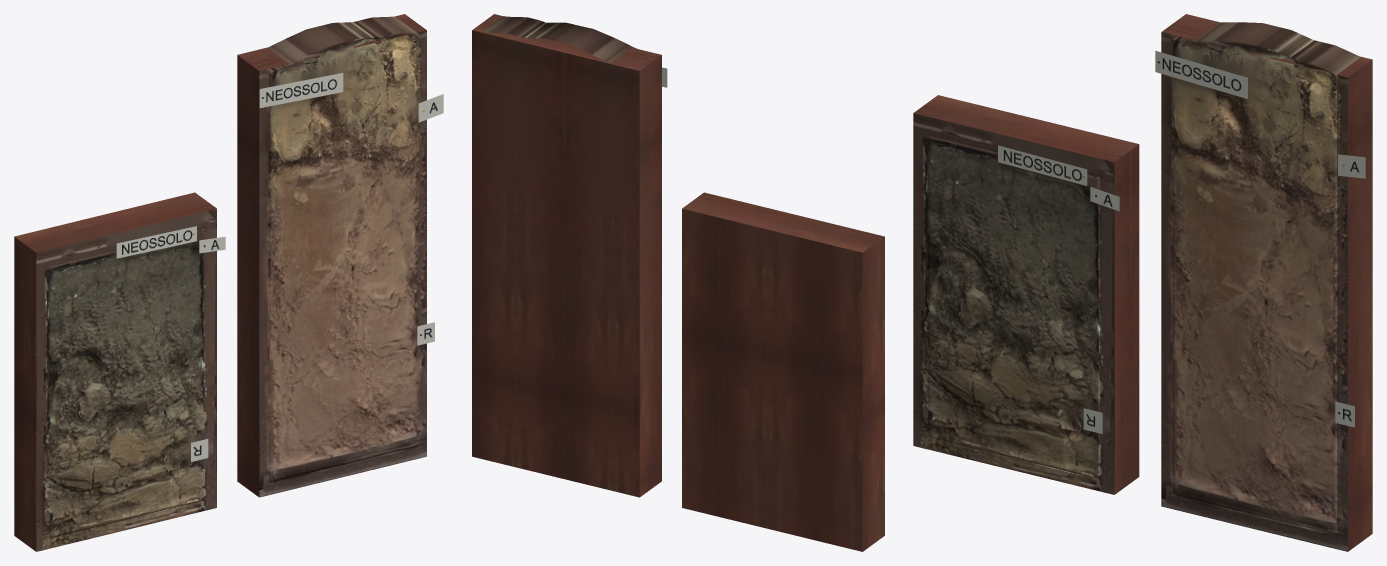
Rendered from perfis_neossolo.glb.
3 views of the same model, side by side, from view 1: azimuth 30°, elevation 25°; view 2: azimuth 150°, elevation 25°; view 3: azimuth 330°, elevation 25° (orthographic). The views are drawn at different scales.
Parts seen in each view (by area): view 1: Solo_11_04, Solo_11_03, Moldura_11_03, Madeira_11_03, Madeira_11_04, Moldura_11_04, Rotulos_11_04, Rotulos_11_03; view 2: Madeira_11_04, Madeira_11_03, Solo_11_04; view 3: Solo_11_04, Solo_11_03, Moldura_11_03, Madeira_11_03, Madeira_11_04, Moldura_11_04, Rotulos_11_04, Rotulos_11_03.
Part boxes in pixels (x1,y1,x2,y2): Solo_11_04: [267, 16, 417, 482]; Solo_11_03: [49, 229, 204, 538]; Moldura_11_03: [36, 208, 216, 551]; Madeira_11_03: [14, 192, 216, 551]; Madeira_11_04: [237, 14, 426, 496]; Moldura_11_04: [259, 30, 426, 497]; Rotulos_11_04: [259, 73, 443, 345]; Rotulos_11_03: [116, 226, 225, 461]; Madeira_11_04: [472, 14, 661, 497]; Madeira_11_03: [682, 192, 884, 551]; Solo_11_04: [483, 16, 636, 63]; Solo_11_04: [1171, 22, 1360, 535]; Solo_11_03: [927, 136, 1099, 479]; Moldura_11_03: [913, 113, 1114, 494]; Madeira_11_03: [914, 95, 1139, 494]; Madeira_11_04: [1162, 14, 1372, 551]; Moldura_11_04: [1161, 32, 1347, 551]; Rotulos_11_04: [1155, 50, 1365, 427]; Rotulos_11_03: [998, 145, 1119, 433].
Size of the model in its own units: 0.774 by 0.7912 by 0.0838.
8 materials, 8 textured.
